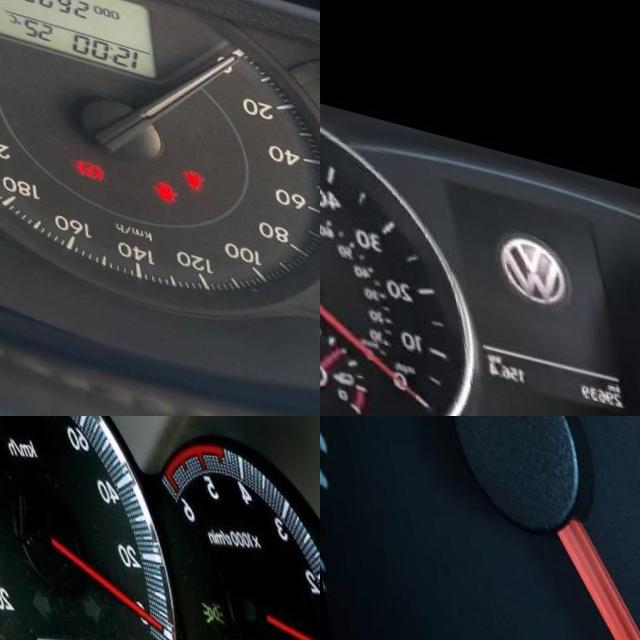Seat Belt: (174, 145, 197, 173)
